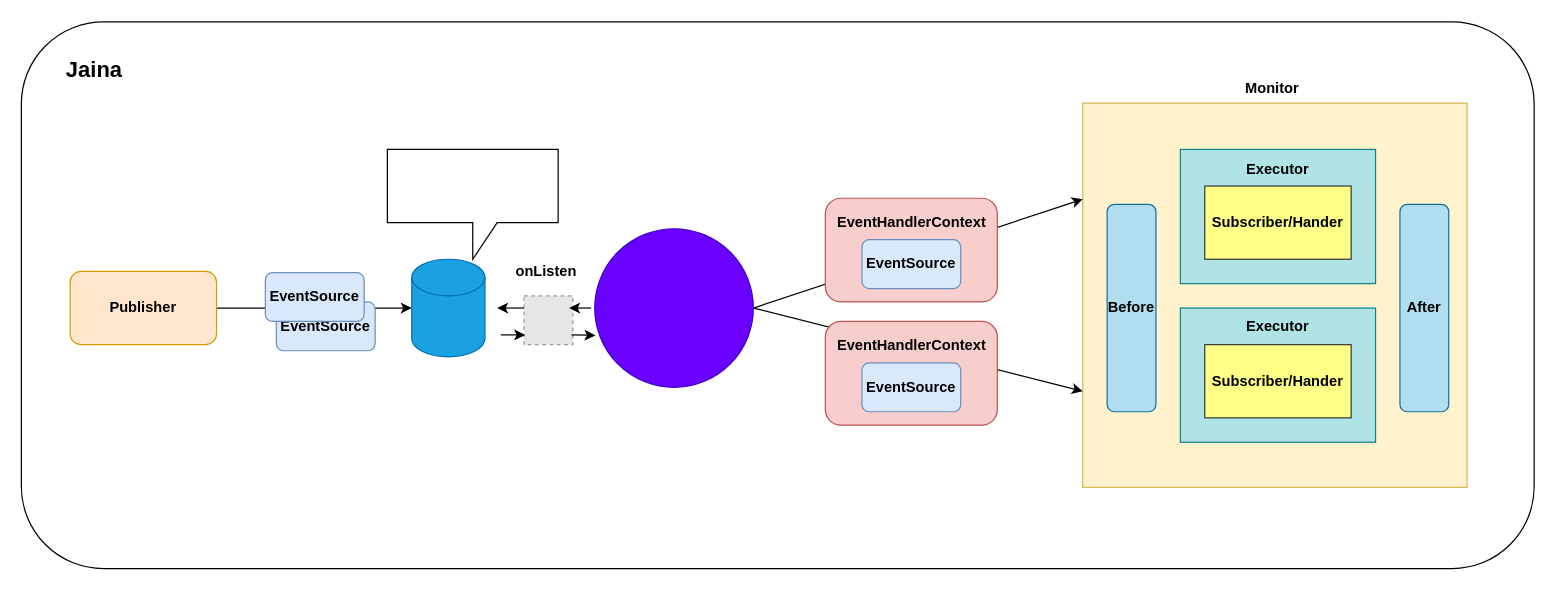
The diagram is 1556 pixels wide and 589 high, and some of its shapes have lost their labels. Grey dashed boxes stand in for pictures. The shapes that lost their labels are listed below. From the top down, each one's centre as x and y in pixels, then its label:
the point at 472,203: 支持使用任何消息队列组件或数据库作为存储器
the point at 448,307: Storer
the point at 673,307: EventBus Service
